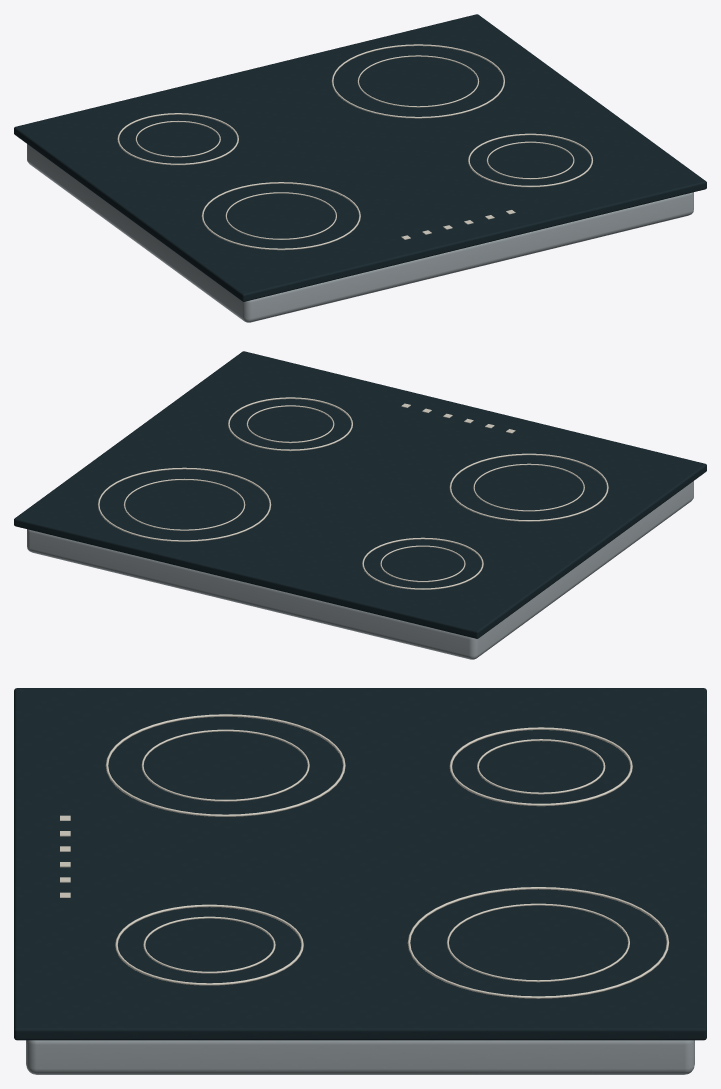
3 views of the same model, one above another, from view 1: azimuth 30°, elevation 25°; view 2: azimuth 150°, elevation 25°; view 3: azimuth 270°, elevation 25° (orthographic). The views are drawn at different scales.
Parts seen in each view (by area): view 1: Black ceramic hob plate, Induction mounting chassis, Cooking-zone outer index.003, Cooking-zone outer index, Cooking-zone outer index.001, Cooking-zone outer index.002, Cooking-zone inner index.003, Cooking-zone inner index; view 2: Black ceramic hob plate, Induction mounting chassis, Cooking-zone outer index.003, Cooking-zone outer index, Cooking-zone outer index.001, Cooking-zone outer index.002, Cooking-zone inner index.003, Cooking-zone inner index; view 3: Black ceramic hob plate, Induction mounting chassis, Cooking-zone outer index.003, Cooking-zone outer index, Cooking-zone outer index.001, Cooking-zone outer index.002, Cooking-zone inner index.003, Cooking-zone inner index, Cooking-zone inner index.001, Cooking-zone inner index.002.
Boxes of the visible parts, bbox=[...] form: Black ceramic hob plate: bbox=[14, 14, 706, 301]; Induction mounting chassis: bbox=[27, 144, 693, 322]; Cooking-zone outer index.003: bbox=[331, 44, 504, 118]; Cooking-zone outer index: bbox=[201, 182, 360, 250]; Cooking-zone outer index.001: bbox=[468, 133, 593, 187]; Cooking-zone outer index.002: bbox=[117, 113, 238, 165]; Cooking-zone inner index.003: bbox=[357, 55, 479, 107]; Cooking-zone inner index: bbox=[225, 192, 336, 239]; Black ceramic hob plate: bbox=[14, 351, 706, 638]; Induction mounting chassis: bbox=[27, 481, 693, 659]; Cooking-zone outer index.003: bbox=[98, 467, 271, 541]; Cooking-zone outer index: bbox=[449, 453, 608, 521]; Cooking-zone outer index.001: bbox=[228, 397, 352, 451]; Cooking-zone outer index.002: bbox=[362, 537, 483, 589]; Cooking-zone inner index.003: bbox=[123, 478, 245, 530]; Cooking-zone inner index: bbox=[473, 463, 584, 511]; Black ceramic hob plate: bbox=[14, 688, 706, 1040]; Induction mounting chassis: bbox=[26, 1040, 694, 1074]; Cooking-zone outer index.003: bbox=[407, 887, 669, 998]; Cooking-zone outer index: bbox=[105, 714, 345, 816]; Cooking-zone outer index.001: bbox=[115, 904, 303, 985]; Cooking-zone outer index.002: bbox=[449, 727, 632, 806]; Cooking-zone inner index.003: bbox=[447, 903, 629, 982]; Cooking-zone inner index: bbox=[141, 729, 309, 801]; Cooking-zone inner index.001: bbox=[143, 916, 275, 973]; Cooking-zone inner index.002: bbox=[477, 739, 605, 794].
Bounding box in the file's own units: 0.6 × 0.0465 × 0.514.
Materials: 3 (3 with a texture image).
